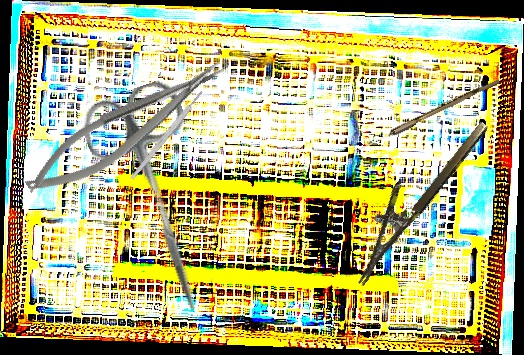Iris Scissors: (75, 75, 246, 326)
Needle Holder: (15, 51, 237, 207), (332, 104, 491, 287)
Scalpel Handle: (129, 89, 205, 181)
Surgical Spoon: (352, 75, 501, 157)
